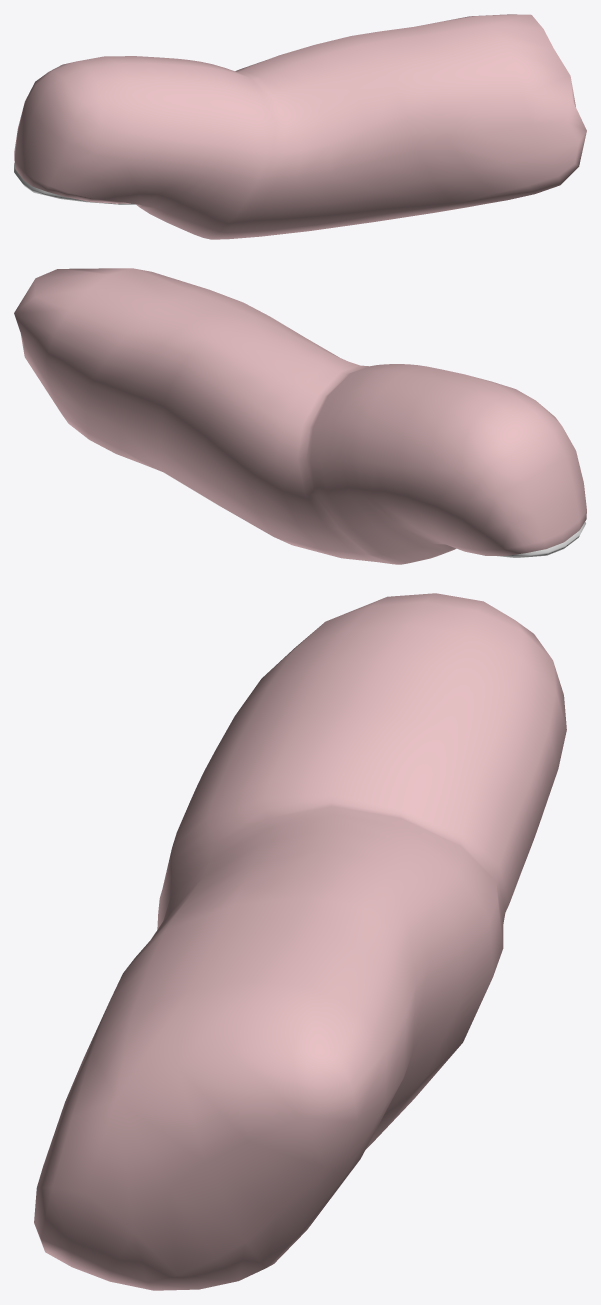
File: Thumb.fbx
3 views of the same model, one above another, from view 1: azimuth 30°, elevation 25°; view 2: azimuth 150°, elevation 25°; view 3: azimuth 270°, elevation 25° (orthographic). The views are drawn at different scales.
Visible parts, largest first — view 1: polySurface4; view 2: polySurface4; view 3: polySurface4.
Boxes of the visible parts, box(x1,y1,x2,y2) form: polySurface4: box(14, 14, 586, 239); polySurface4: box(14, 268, 586, 564); polySurface4: box(34, 593, 566, 1290).
Size of the model in its own units: 2.85 by 1.01 by 1.35.
